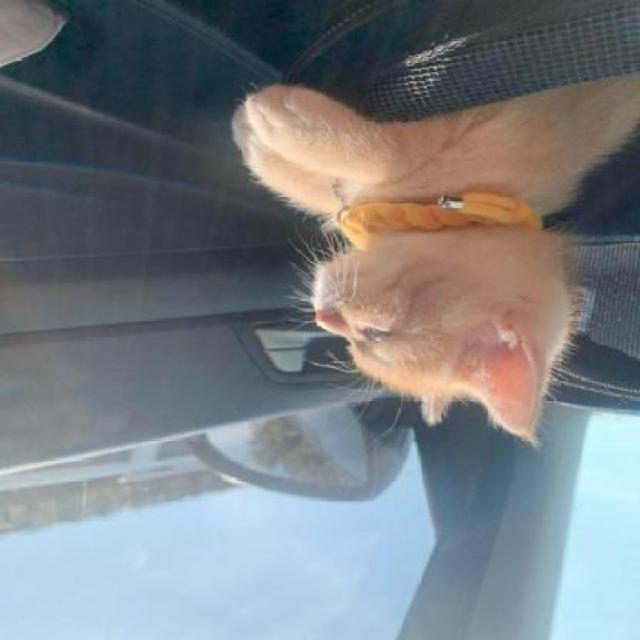cat: (215, 52, 640, 486)
